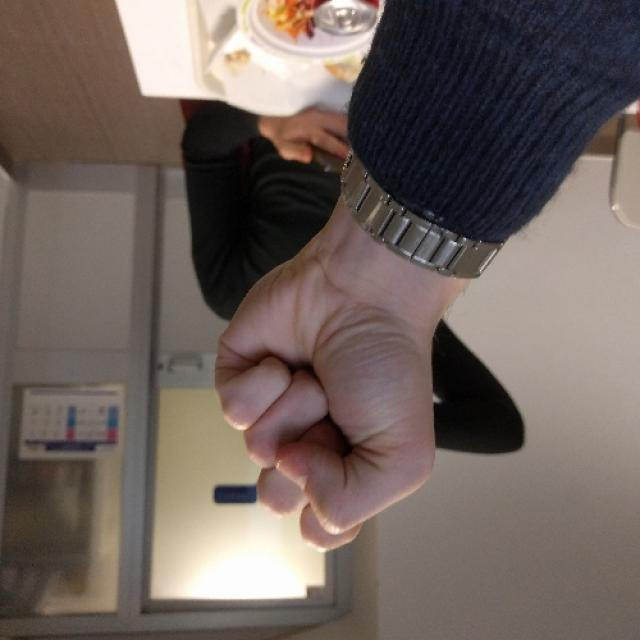rock: (215, 254, 436, 536)
